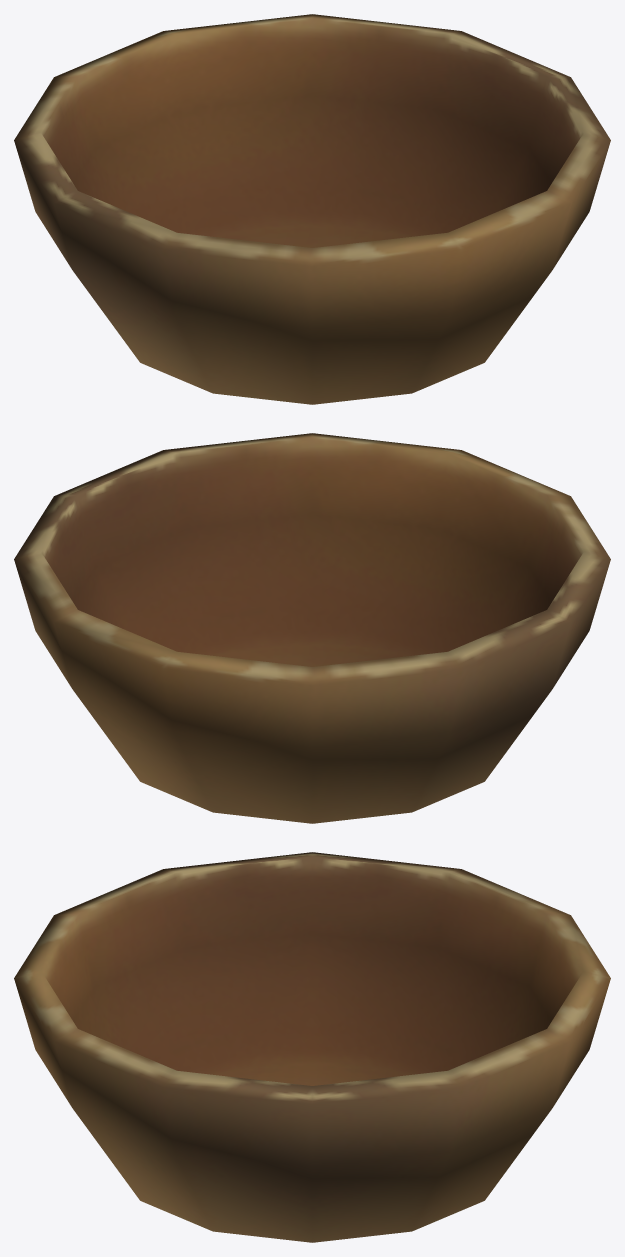
The model's file is P_Bowl_A.FBX.
3 renders of one model, top to bottom at view 1: azimuth 30°, elevation 25°; view 2: azimuth 150°, elevation 25°; view 3: azimuth 270°, elevation 25°, orthographic.
Parts seen in each view (by area): view 1: P_Bowl_A; view 2: P_Bowl_A; view 3: P_Bowl_A.
Part boxes in pixels (x1,y1,x2,y2): P_Bowl_A: [14, 14, 610, 404]; P_Bowl_A: [14, 433, 610, 823]; P_Bowl_A: [14, 852, 610, 1242].
Size of the model in its own units: 56.39 by 19.5 by 56.39.
Materials: 1 (1 with a texture image).
